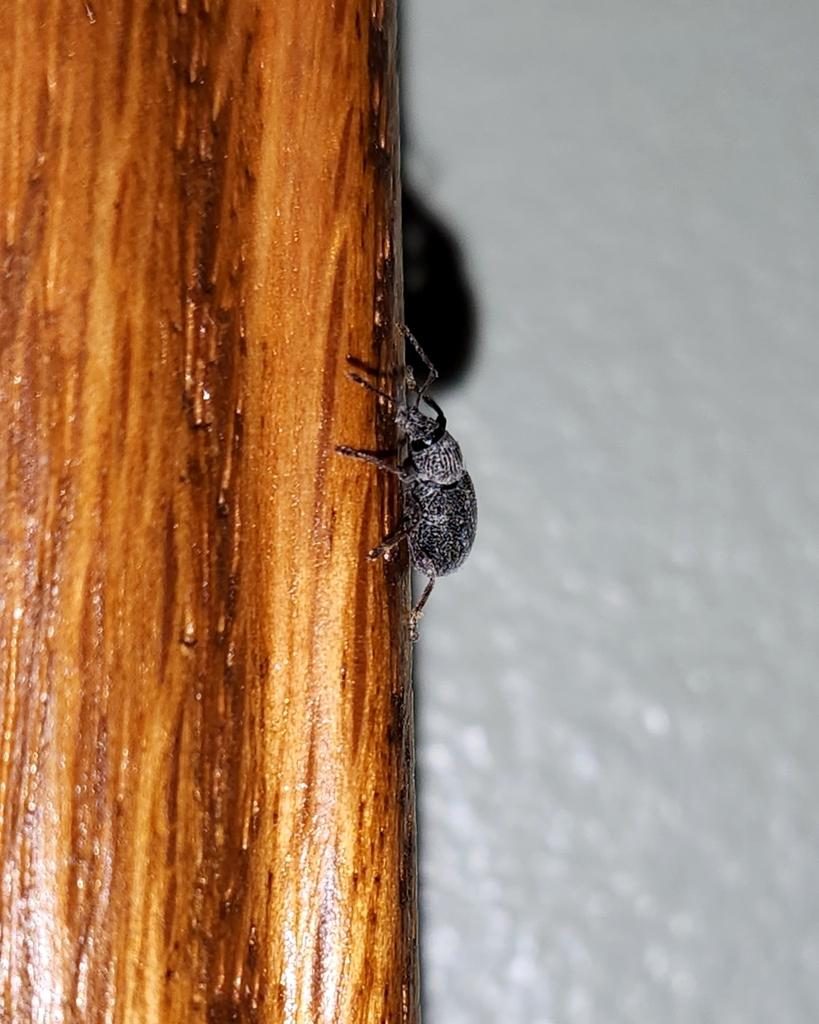weevils: (283, 283, 604, 696)
